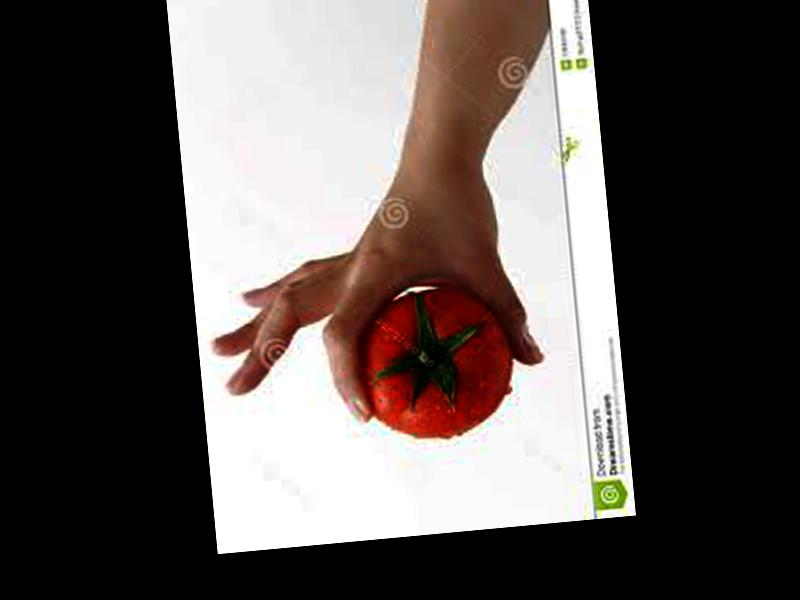Tomato: (352, 282, 518, 445)
